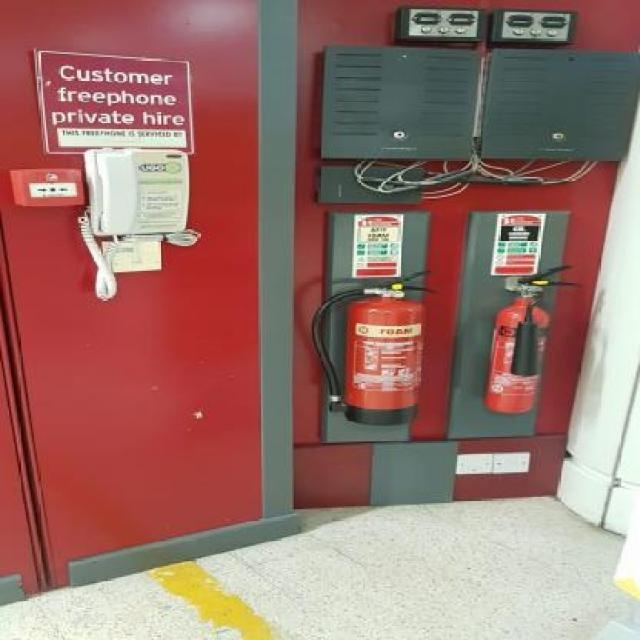fire extinguisher: (313, 280, 427, 428), (487, 270, 556, 415)
